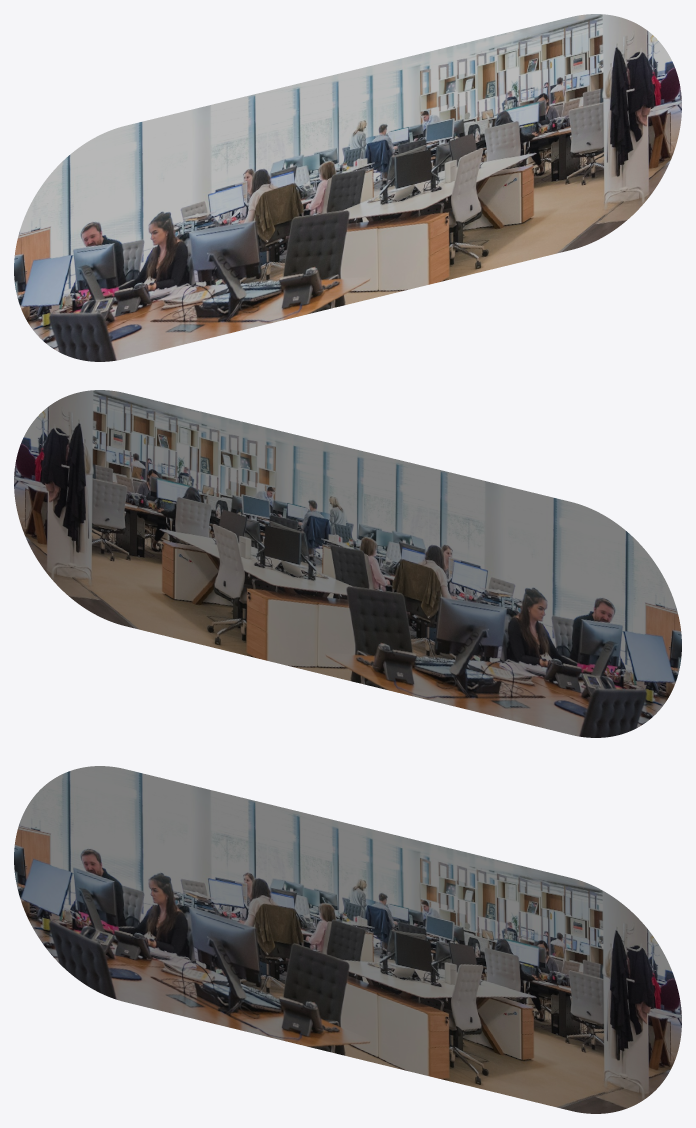
Rendered from curved-plane-2.glb.
The picture shows the model from 3 angles, top to bottom: view 1: azimuth 30°, elevation 25°; view 2: azimuth 150°, elevation 25°; view 3: azimuth 330°, elevation 25°; orthographic projection.
Parts seen in each view (by area): view 1: Plane; view 2: Plane; view 3: Plane.
Boxes of the visible parts, box(x1,y1,x2,y2) form: Plane: box(14, 14, 681, 361); Plane: box(14, 390, 681, 737); Plane: box(14, 766, 681, 1113).
Size of the model in its own units: 4 by 1.33 by 2.96e-16.
Materials: 1 (1 with a texture image).
